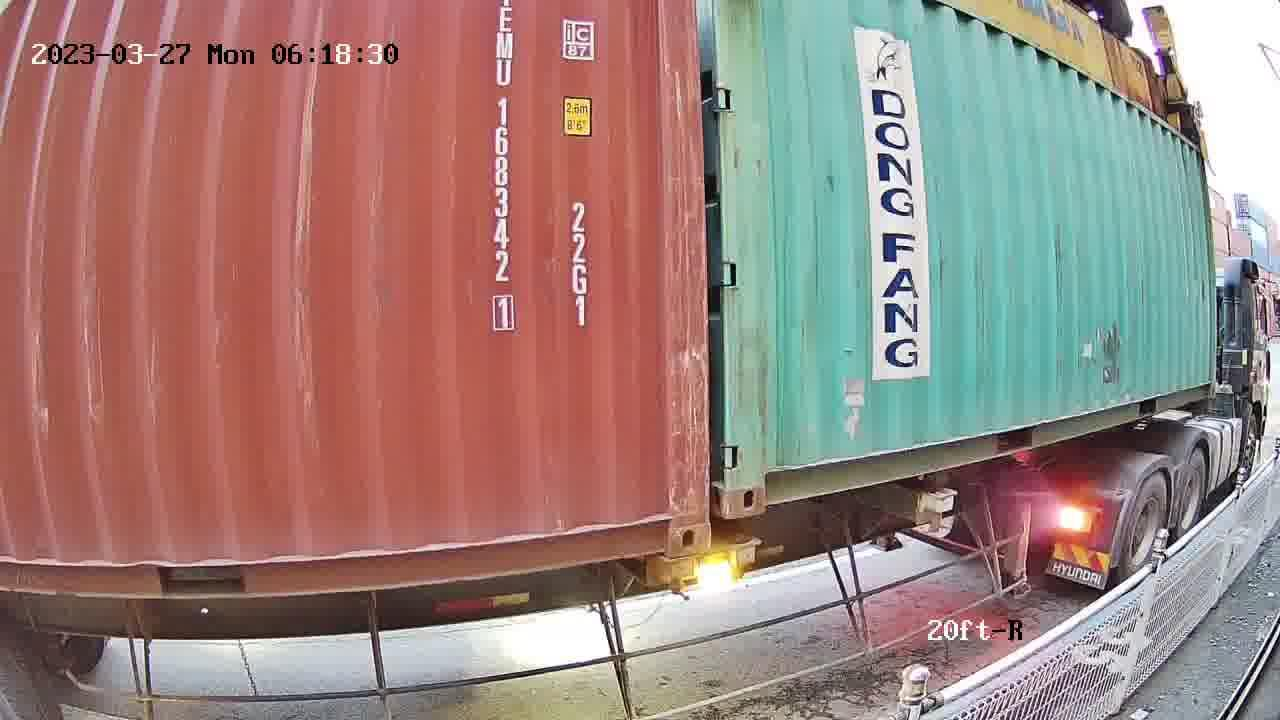Cone: (647, 556, 705, 603), (721, 529, 761, 580)
Hole_L: (727, 437, 791, 518)
Hole_R: (633, 479, 708, 555)
Tire: (1121, 475, 1169, 585), (1176, 452, 1207, 539)
